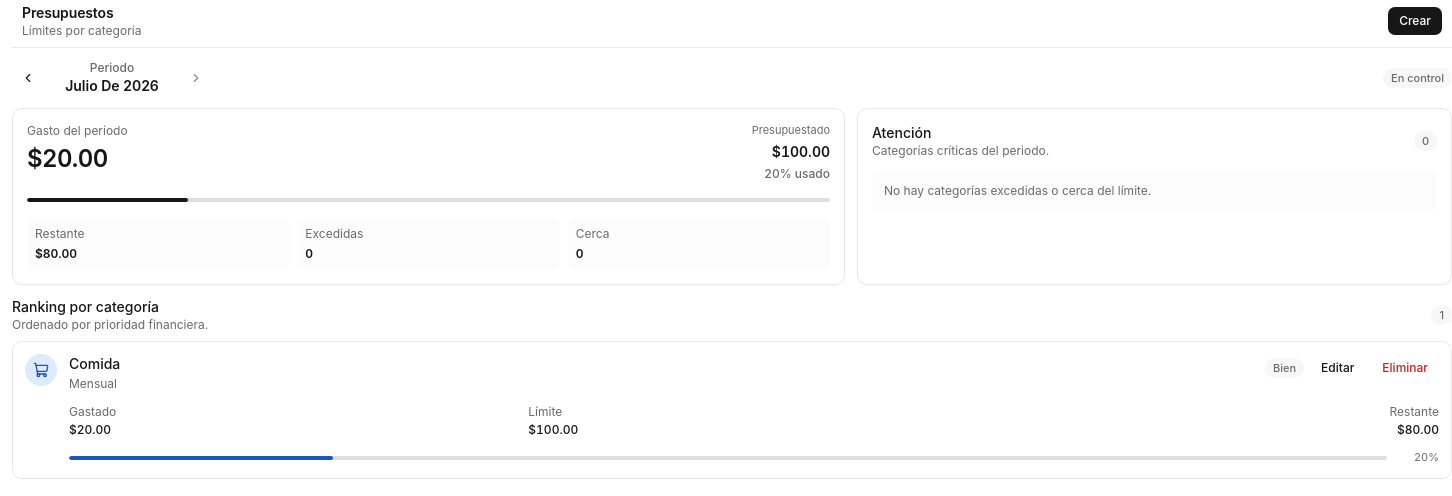
Test: BudgetsPage › navigates past months, uses month-end snapshots, and cannot move into the future
Check: the text "julio de 2026" is shown, box [65,77,159,94]
Check: the button named "Mes siguiente" is disabled, box [180,62,212,94]
Click the button named "Mes anterior".
click(28, 78)  # box [12,62,44,94]
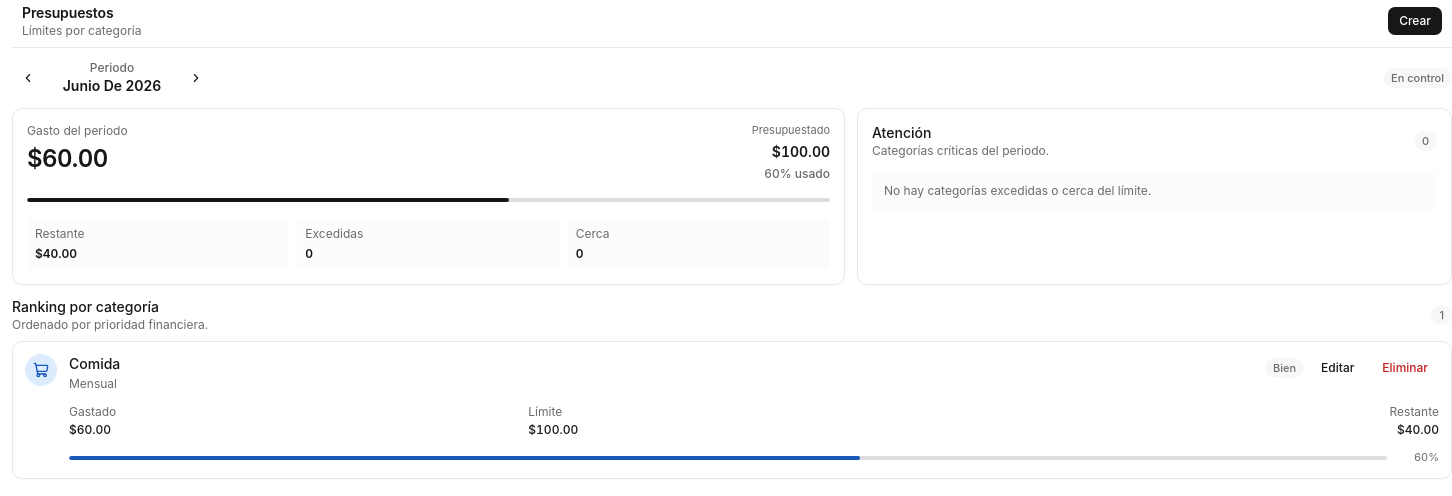
Check: the text "junio de 2026" is shown, box [63,77,161,94]
Click the button named "Mes siguiente".
click(196, 78)  # box [180,62,212,94]
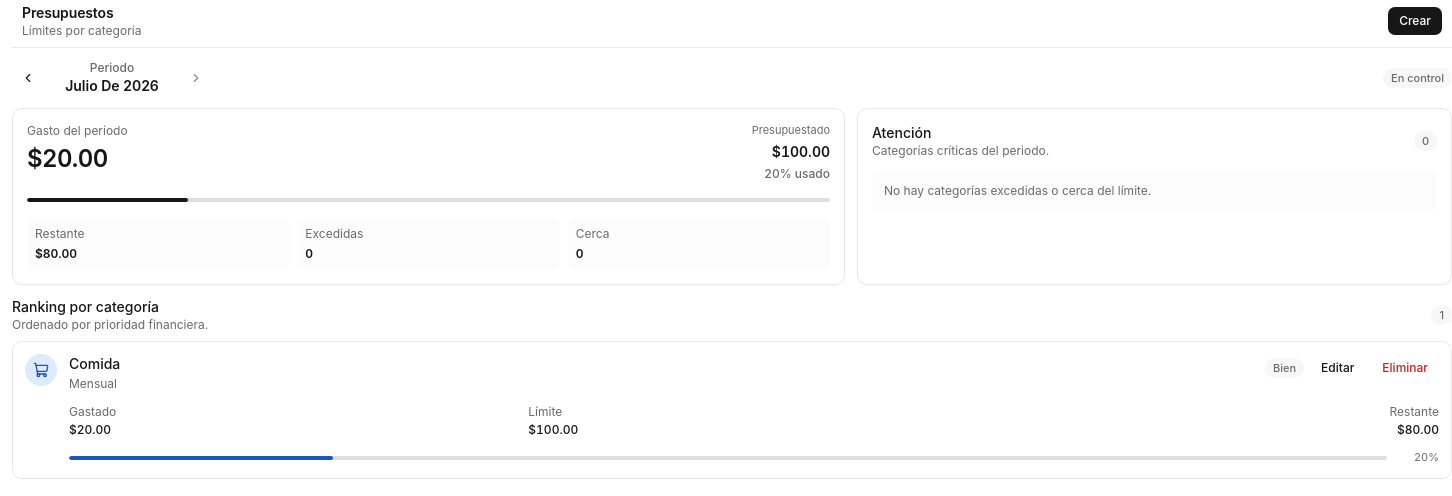
Check: the text "julio de 2026" is shown, box [65,77,159,94]
